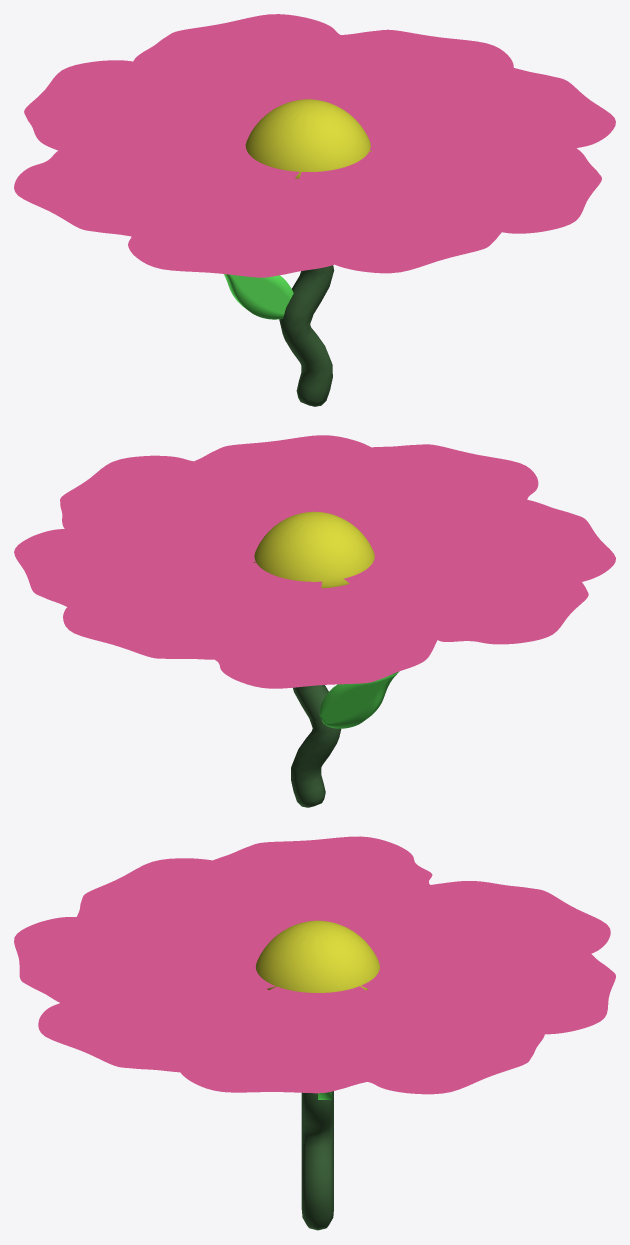
Rendered from Flower.glb.
The picture shows the model from 3 angles, top to bottom: view 1: azimuth 30°, elevation 25°; view 2: azimuth 150°, elevation 25°; view 3: azimuth 270°, elevation 25°; orthographic projection. The views are drawn at different scales.
Parts seen in each view (by area): view 1: Petals, FlowerCenter, Stem, Leaf1; view 2: Petals, FlowerCenter, Stem, Leaf1; view 3: Petals, FlowerCenter, Stem.
Part boxes in pixels (box(x1,y1,x2,y2)): Petals: box(14, 14, 615, 277); FlowerCenter: box(245, 99, 371, 178); Stem: box(279, 265, 334, 406); Leaf1: box(224, 274, 293, 319); Petals: box(14, 435, 615, 688); FlowerCenter: box(253, 511, 374, 588); Stem: box(291, 685, 341, 807); Leaf1: box(319, 671, 399, 728); Petals: box(14, 836, 615, 1094); FlowerCenter: box(255, 920, 379, 992); Stem: box(301, 1091, 333, 1230).
Size of the model in its own units: 8.65 by 4.7 by 8.57.
